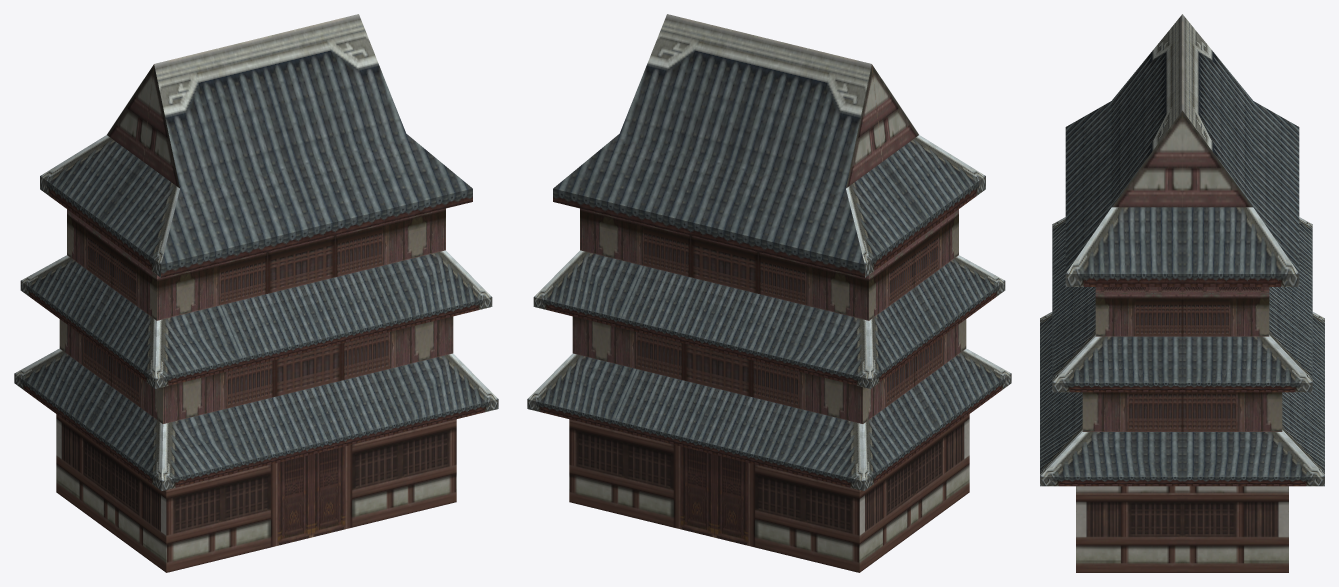
The model's file is minfang_1.FBX.
3 renders of one model, left to right at view 1: azimuth 30°, elevation 25°; view 2: azimuth 150°, elevation 25°; view 3: azimuth 270°, elevation 25°, orthographic. The views are drawn at different scales.
Visible parts, largest first — view 1: minfang_1; view 2: minfang_1; view 3: minfang_1.
Boxes of the visible parts, x1,y1,x2,y2 form: minfang_1: (14,14,498,572); minfang_1: (527,14,1011,572); minfang_1: (1040,14,1324,572).
Size of the model in its own units: 5.87 by 7.63 by 4.46.
